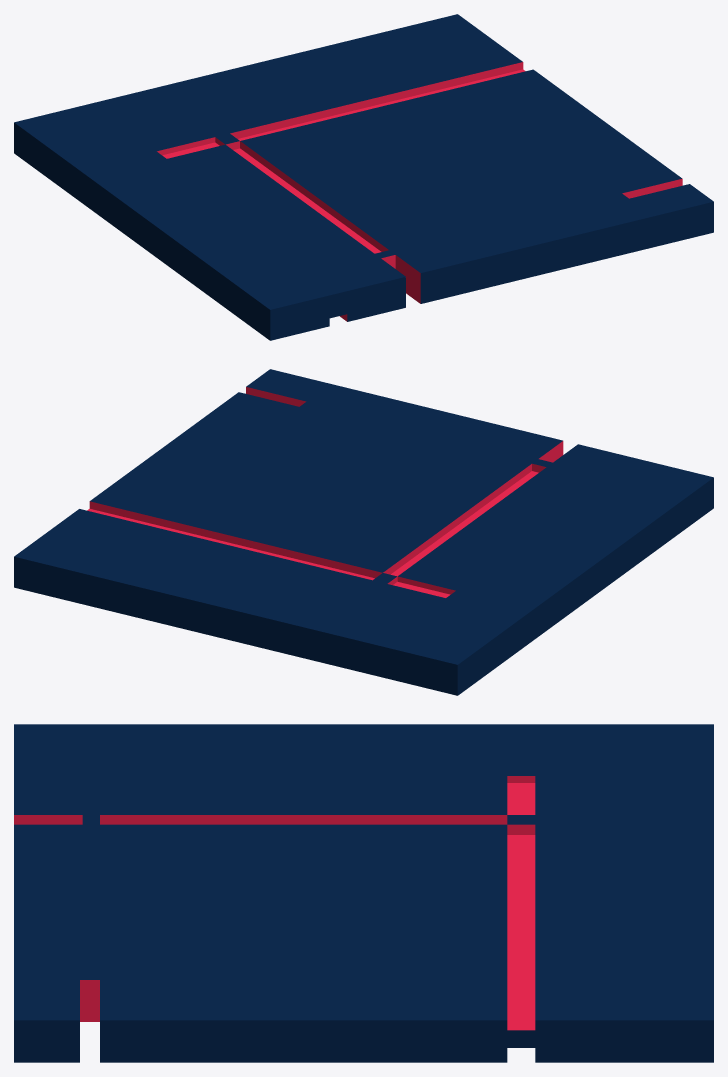
Rendered from Platform02.fbx.
The picture shows the model from 3 angles, top to bottom: view 1: azimuth 30°, elevation 25°; view 2: azimuth 150°, elevation 25°; view 3: azimuth 270°, elevation 25°; orthographic projection. The views are drawn at different scales.
Visible parts, largest first — view 1: Box063; view 2: Box063; view 3: Box063.
Boxes of the visible parts, x1=… form: Box063: x1=14, y1=14, x2=713, y2=340; Box063: x1=14, y1=369, x2=713, y2=695; Box063: x1=14, y1=724, x2=713, y2=1062.
Bounding box in the file's own units: 381 × 25.4 × 381.
